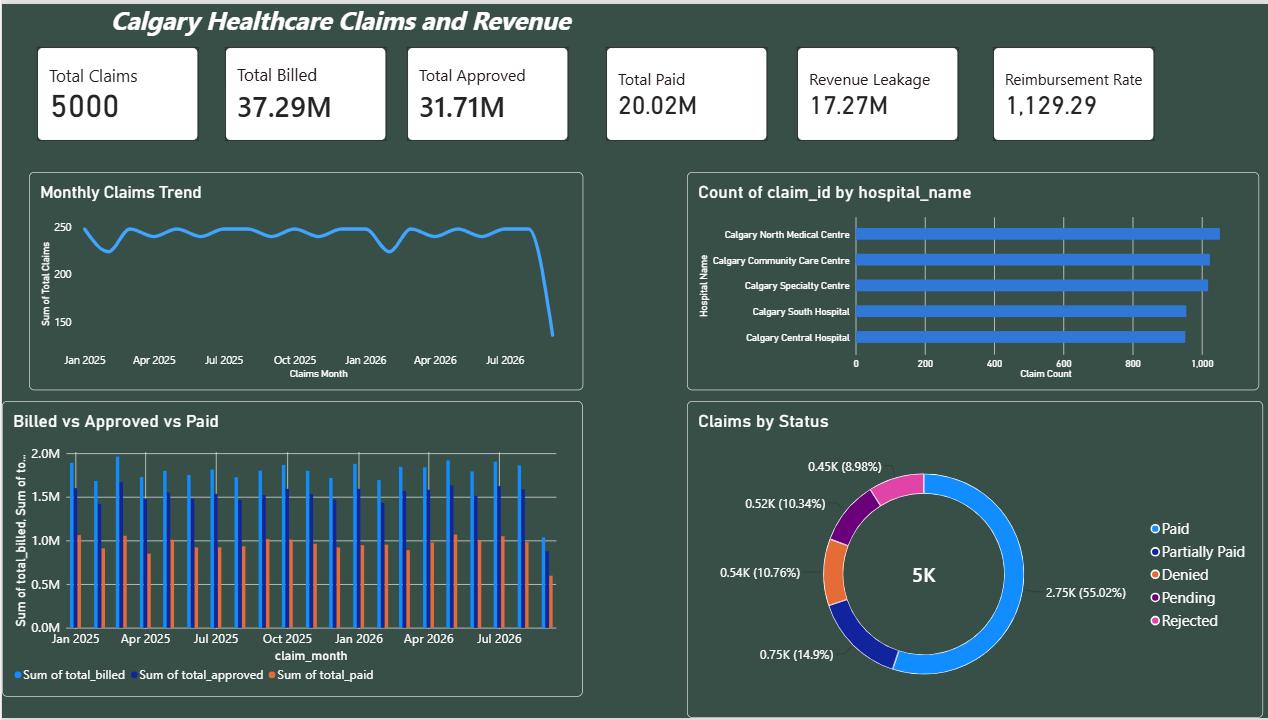

This screenshot's page, from the dashboard's own definition file:
{"tool":"powerbi","page":{"name":"Page 1","canvas":[1920,1080],"ordinal":0},"visuals":[{"type":"lineChart","title":"Monthly Claims Trend","fields":{"Category":["healthcare claim_trends.claim_month"],"Y":["Sum(healthcare claim_trends.total_claims)"]},"box":[40.8,254,837.5,329.6],"z":0},{"type":"clusteredColumnChart","title":"Billed vs Approved vs Paid","fields":{"Category":["healthcare claim_trends.claim_month"],"Y":["Sum(healthcare claim_trends.total_billed)","Sum(healthcare claim_trends.total_approved)","Sum(healthcare claim_trends.total_paid)"]},"box":[0,600.2,878.4,447.5],"z":1},{"type":"clusteredBarChart","fields":{"Category":["healthcare claims_analytics.hospital_name"],"Y":["CountNonNull(healthcare claims_analytics.claim_id)"]},"box":[1035.6,254,864.8,329.6],"z":2},{"type":"donutChart","title":"Claims by Status","fields":{"Category":["healthcare claims_analytics.claim_status"],"Y":["CountNonNull(healthcare claims_analytics.claim_id)"]},"box":[1035.6,600.2,870.8,479.2],"z":3},{"type":"textbox","box":[40.8,0,901,104.3],"z":4},{"type":"cardVisual","fields":{"Data":["Sum(healthcare claim_trends.total_claims)"]},"box":[52.9,65,244.9,142.1],"z":5},{"type":"cardVisual","fields":{"Data":["Sum(healthcare claim_trends.total_billed)"]},"box":[337.1,65,244.9,142.1],"z":6},{"type":"cardVisual","fields":{"Data":["Sum(healthcare claim_trends.total_approved)"]},"box":[612.3,65,244.9,142.1],"z":7},{"type":"cardVisual","fields":{"Data":["Sum(healthcare claim_trends.total_paid)"]},"box":[913.1,65,244.9,142.1],"z":8},{"type":"cardVisual","fields":{"Data":["Sum(healthcare claim_trends.revenue_leakage)"]},"box":[1201.9,65,244.9,142.1],"z":9},{"type":"cardVisual","fields":{"Data":["Sum(healthcare claim_trends.reimbursement_rate)"]},"box":[1498.2,65,244.9,142.1],"z":10}]}

Visuals, with their boxes in screenshot pixels (x1, y1, x2, y2), scaled from the page's 1920x1080 canvas onto the 1268x720 screenshot:
"Monthly Claims Trend" lineChart: (27,169,580,389)
"Billed vs Approved vs Paid" clusteredColumnChart: (0,400,580,698)
clusteredBarChart - healthcare claims_analytics.hospital_name x CountNonNull(healthcare claims_analytics.claim_id): (684,169,1255,389)
"Claims by Status" donutChart: (684,400,1259,719)
textbox: (27,0,622,70)
cardVisual - Sum(healthcare claim_trends.total_claims): (35,43,197,138)
cardVisual - Sum(healthcare claim_trends.total_billed): (223,43,384,138)
cardVisual - Sum(healthcare claim_trends.total_approved): (404,43,566,138)
cardVisual - Sum(healthcare claim_trends.total_paid): (603,43,765,138)
cardVisual - Sum(healthcare claim_trends.revenue_leakage): (794,43,955,138)
cardVisual - Sum(healthcare claim_trends.reimbursement_rate): (989,43,1151,138)
